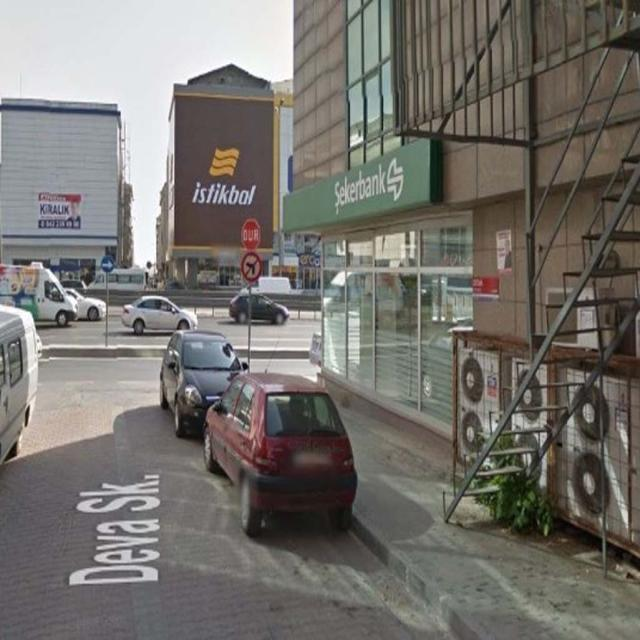dur: (240, 218, 260, 250)
sag: (101, 258, 114, 274)
soladonulmez: (241, 251, 262, 281)
